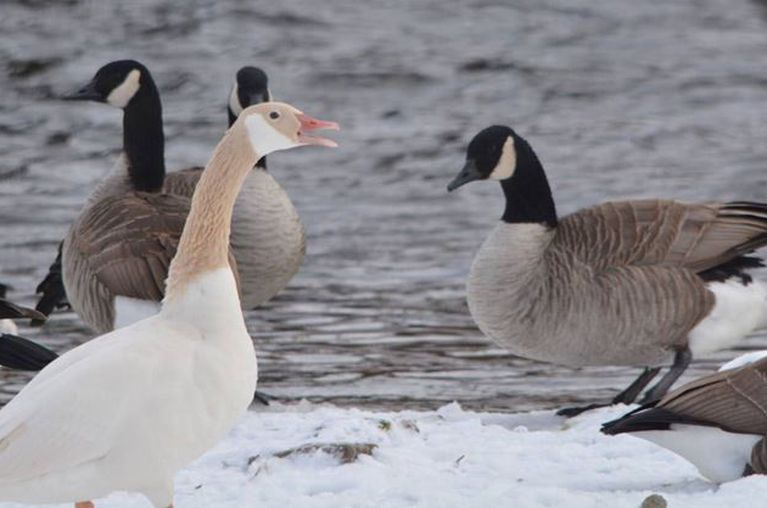goose: (440, 120, 767, 430), (65, 58, 241, 350), (209, 54, 305, 314)
